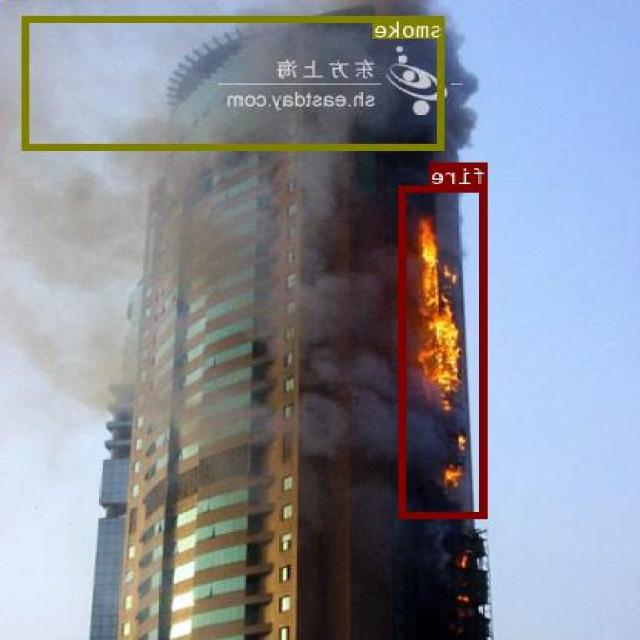fire: (401, 185, 488, 518)
smoke: (24, 15, 446, 148)
